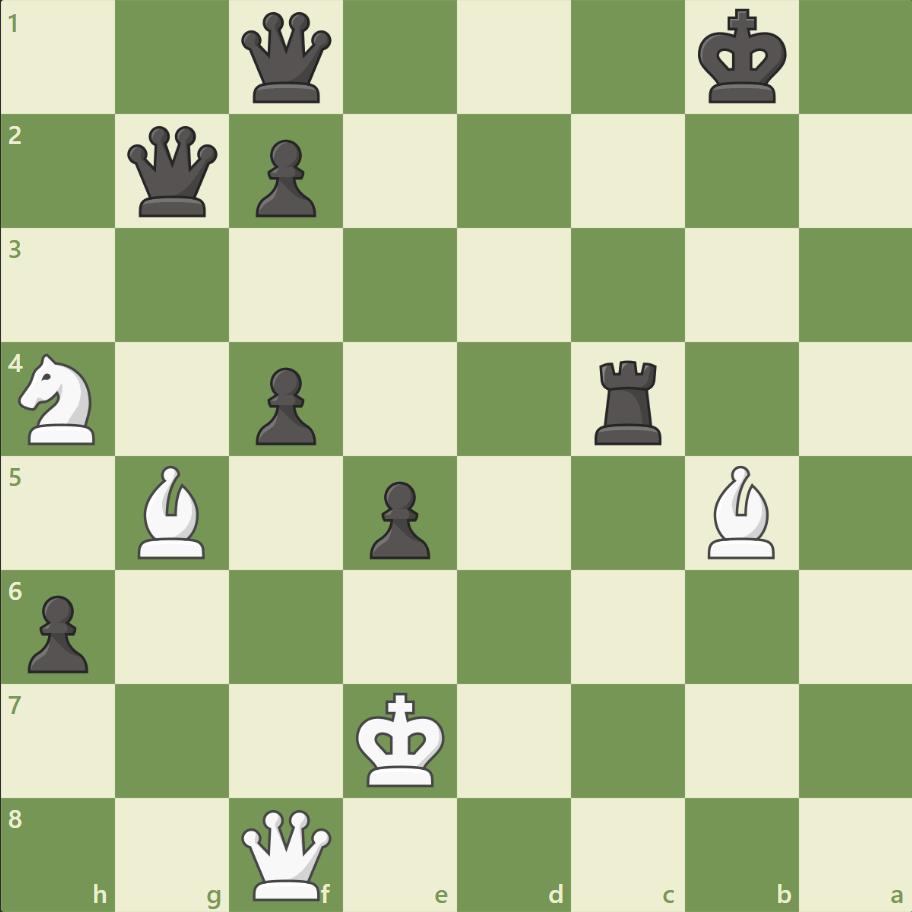B: (698, 460, 782, 563), (131, 460, 215, 563)
K: (351, 685, 451, 793)
N: (11, 348, 108, 450)
Q: (237, 804, 336, 903)
k: (692, 4, 792, 112)
p: (20, 586, 95, 677), (247, 359, 322, 450), (247, 132, 322, 223), (361, 473, 435, 564)
q: (124, 122, 223, 222), (237, 9, 336, 108)
r: (587, 352, 670, 449)
